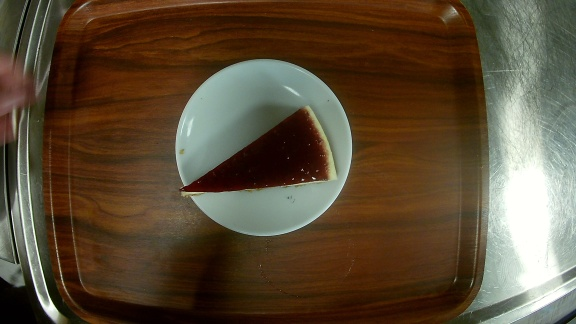frambuazlipasta: (174, 58, 352, 237)
